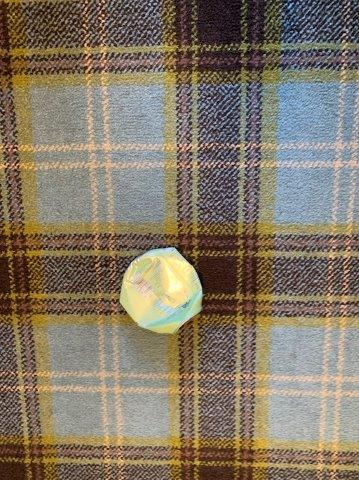kaleng: (119, 247, 203, 333)
